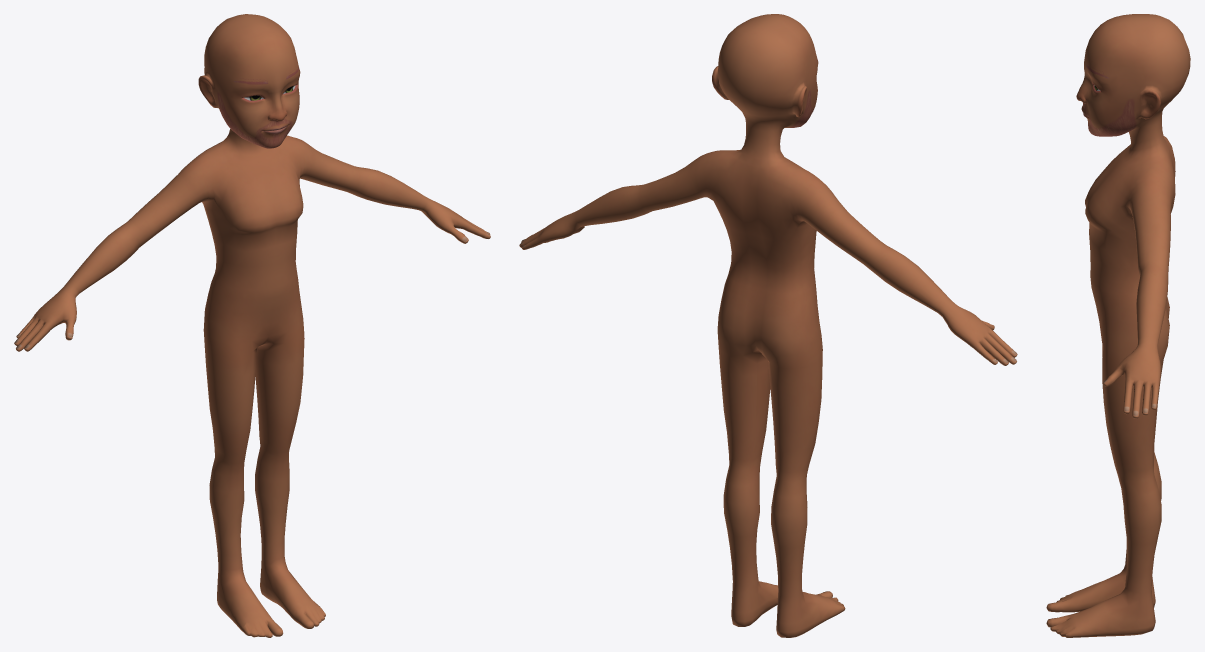
Rendered from frame_0073.glb.
The picture shows the model from 3 angles, left to right: view 1: azimuth 30°, elevation 25°; view 2: azimuth 150°, elevation 25°; view 3: azimuth 270°, elevation 25°; orthographic projection. The views are drawn at different scales.
Parts seen in each view (by area): view 1: frame_0073_head_geo; view 2: frame_0073_head_geo; view 3: frame_0073_head_geo.
Boxes of the visible parts, <box> form: frame_0073_head_geo: <box>14,14,490,637</box>; frame_0073_head_geo: <box>519,14,1017,637</box>; frame_0073_head_geo: <box>1046,14,1190,637</box>.
Size of the model in its own units: 1.28 by 1.5 by 0.3253.
Materials: 3 (3 with a texture image).
